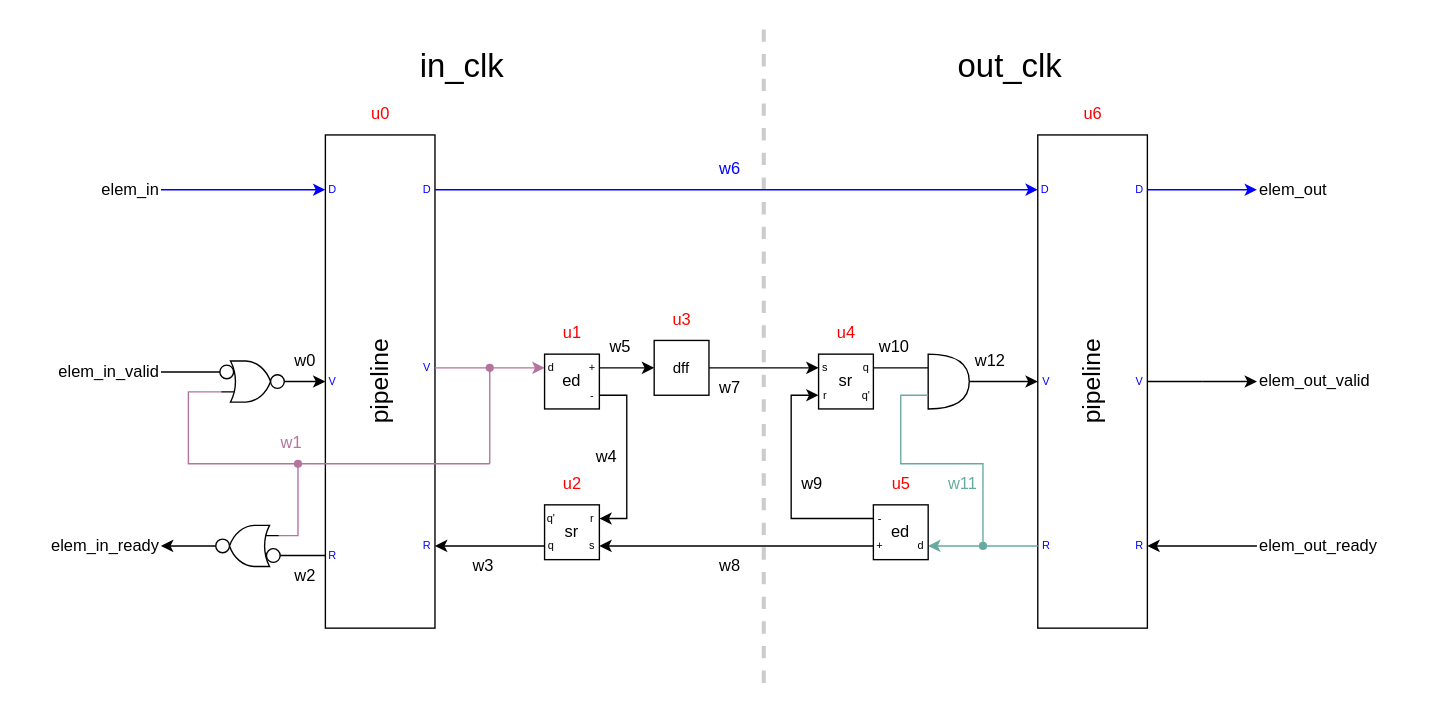
Some shapes in this 1430 by 710 pixel diagram are drawn without their labels. The shapes that lost their labels are listed below. From the top down, each one's centre as x and y in pixels, then its label:
(x=251, y=381): g0
(x=948, y=381): g2
(x=247, y=545): g1
